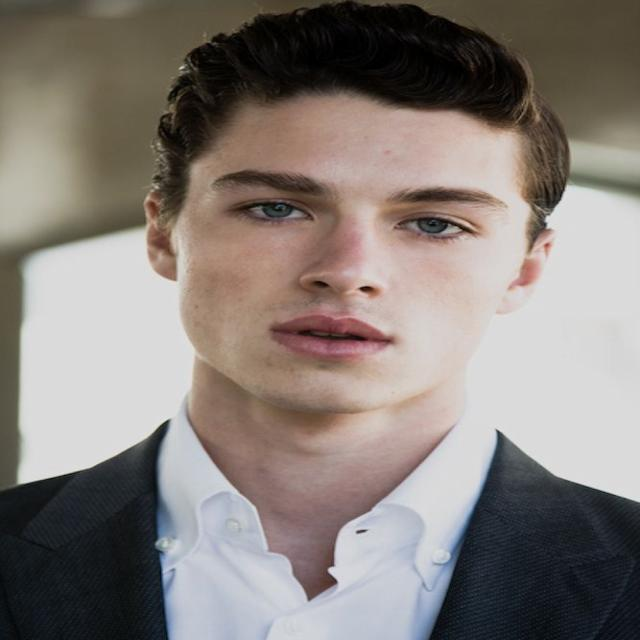earlobe: (495, 228, 557, 315), (142, 191, 181, 282)
